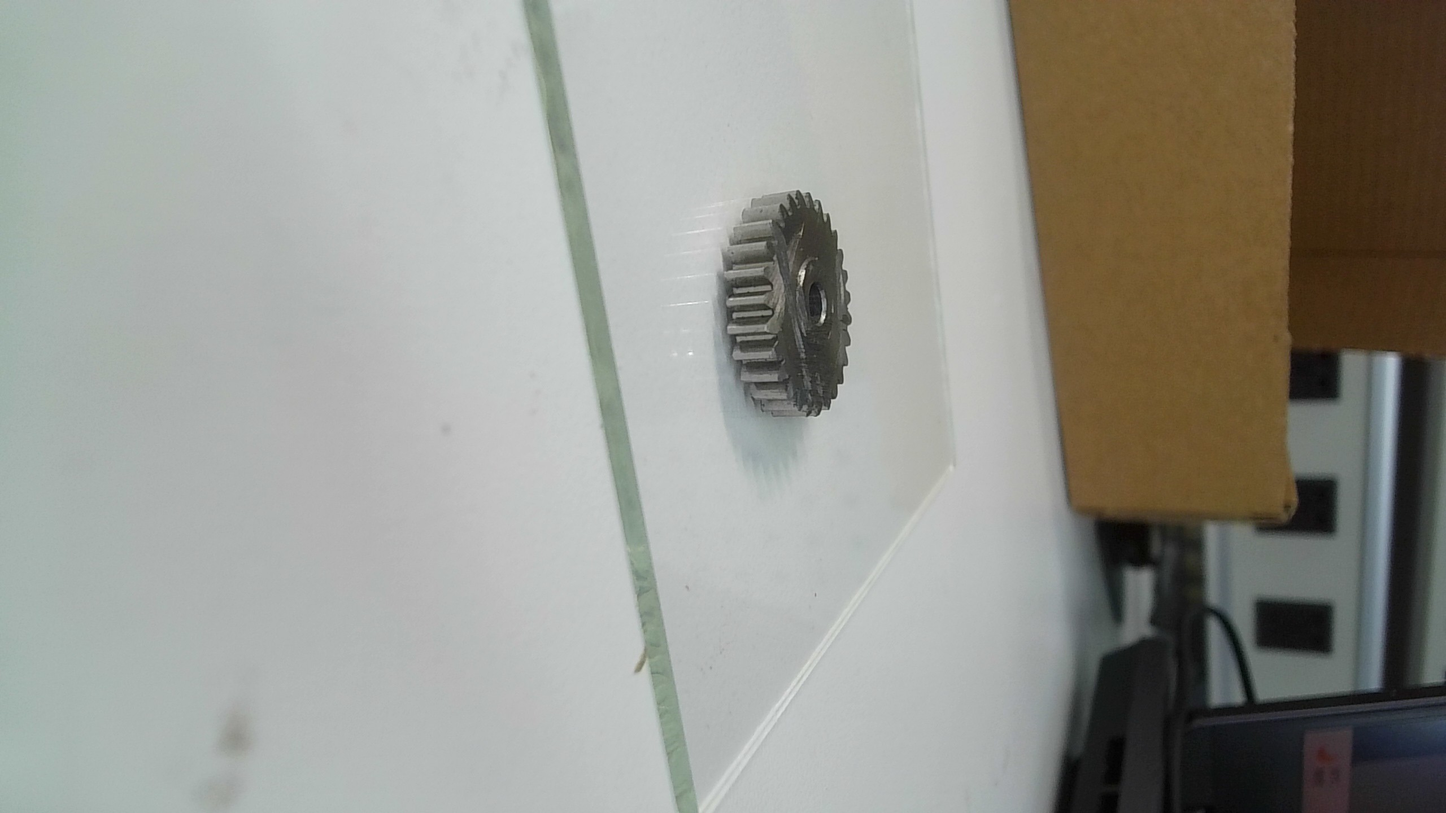gear: (712, 181, 860, 423)
